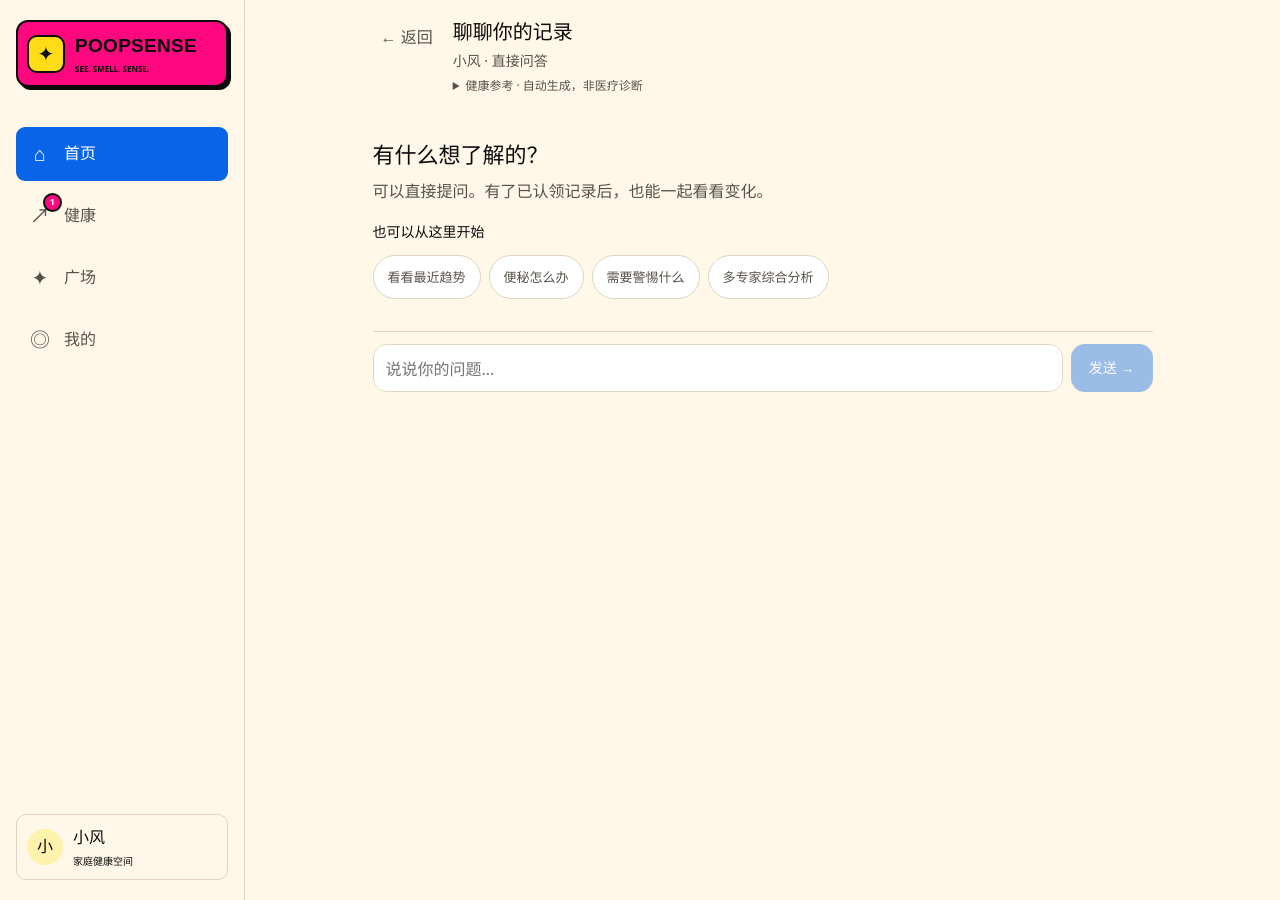
Test: model routing provenance › explains the routing failure MODEL_NOT_CONFIGURED and preserves the question for retry
The image size is (1280, 900).
Type "颜色通常表示什么" into the text box named "描述你的情况" at {"x": 718, "y": 368}, box [372,344,1063,392]
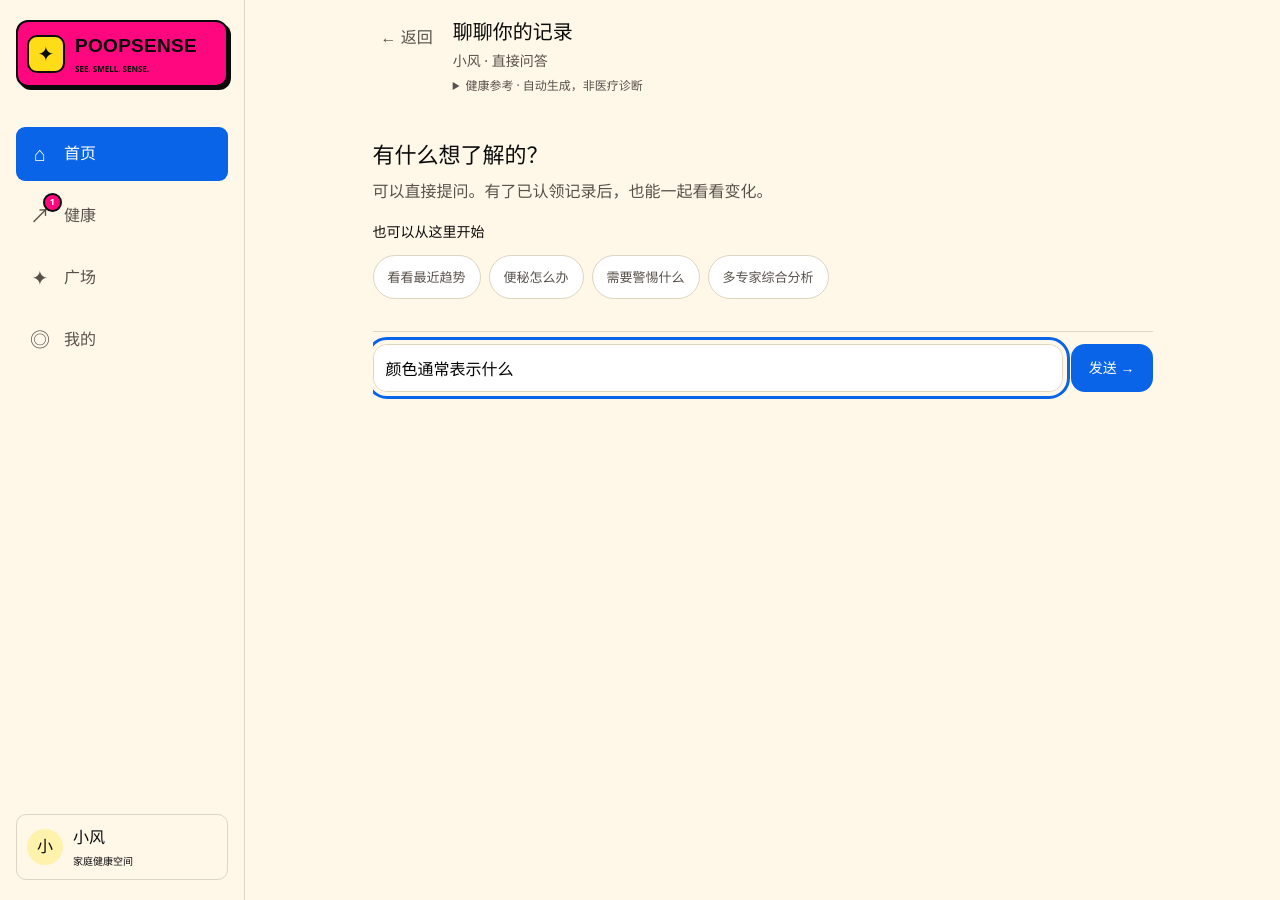
Click the button "发送 →" at {"x": 1112, "y": 368}, box [1071,344,1152,392]
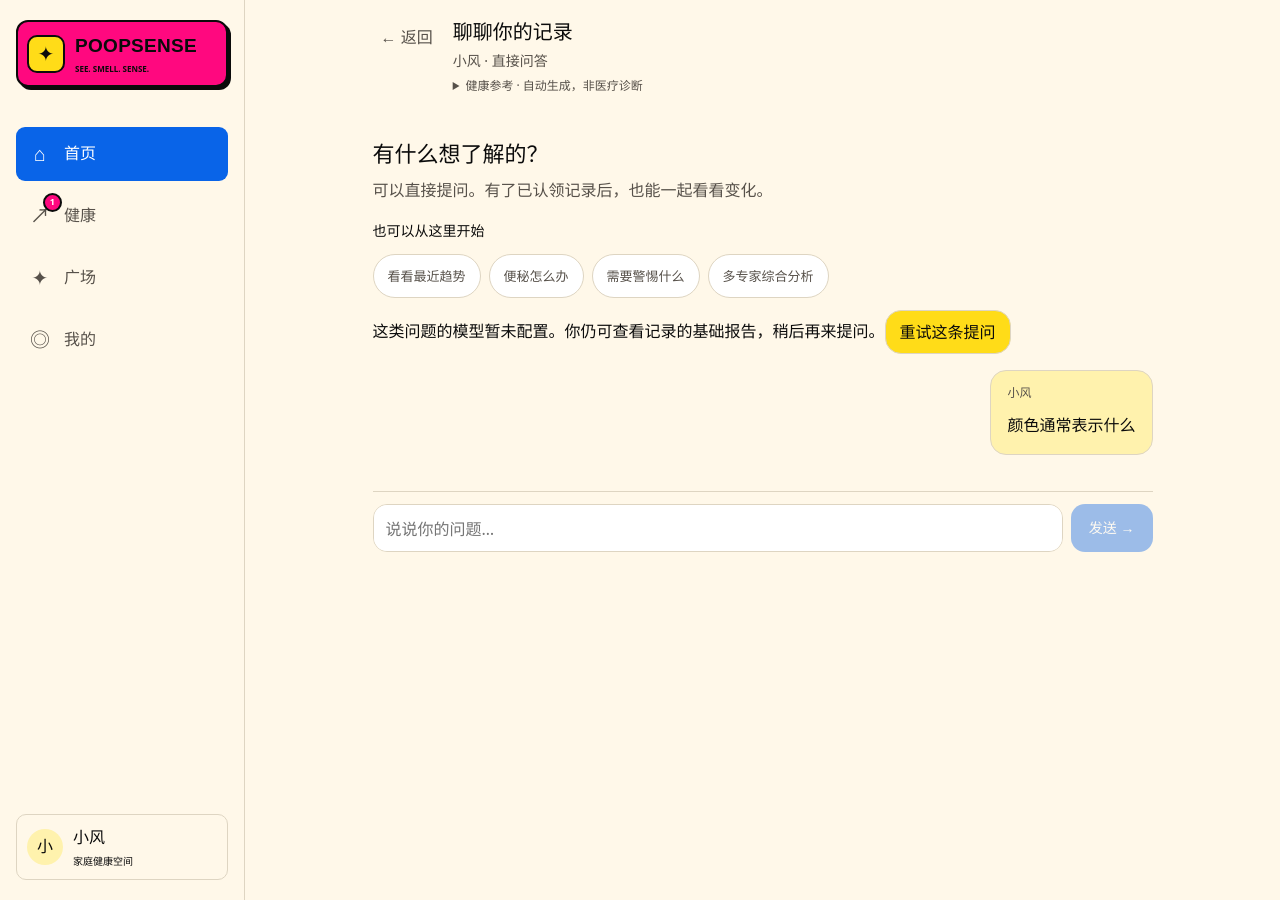
Expected: the text "这类问题的模型暂未配置。你仍可查看记录的基础报告，稍后再来提问。" is shown, [372,321,884,343]
Expected: the text "颜色通常表示什么" is shown, [1008,413,1136,437]
Expected: the button "重试这条提问" is enabled, [884,310,1010,354]
